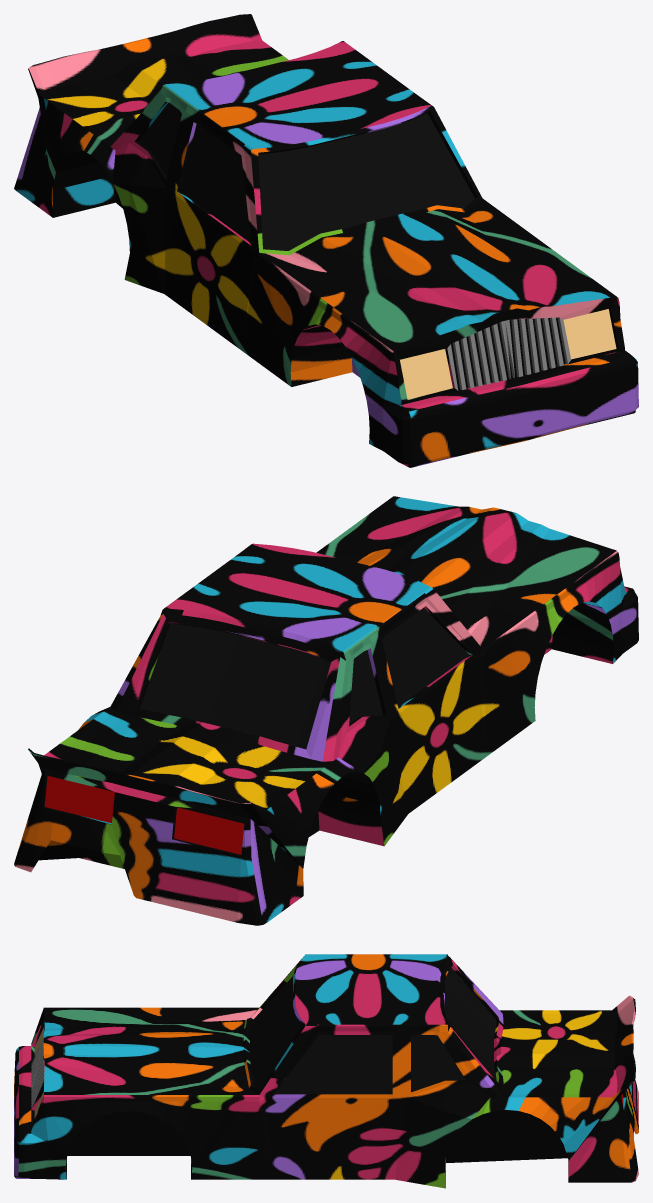
Rendered from montana_body.obj.
3 views of the same model, one above another, from view 1: azimuth 30°, elevation 25°; view 2: azimuth 150°, elevation 25°; view 3: azimuth 270°, elevation 25° (orthographic). The views are drawn at different scales.
Visible parts, largest first — view 1: Plane; view 2: Plane; view 3: Plane.
Part boxes in pixels (x1,y1,x2,y2): Plane: (14,14,638,467); Plane: (14,496,638,925); Plane: (14,954,638,1188).
Size of the model in its own units: 2.85 by 1.94 by 7.4.
